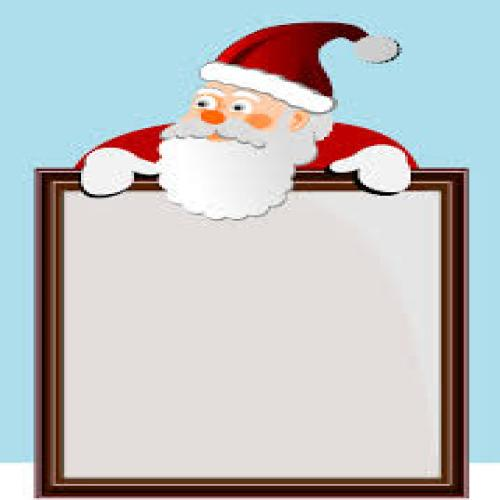Santa: (77, 20, 414, 223)
